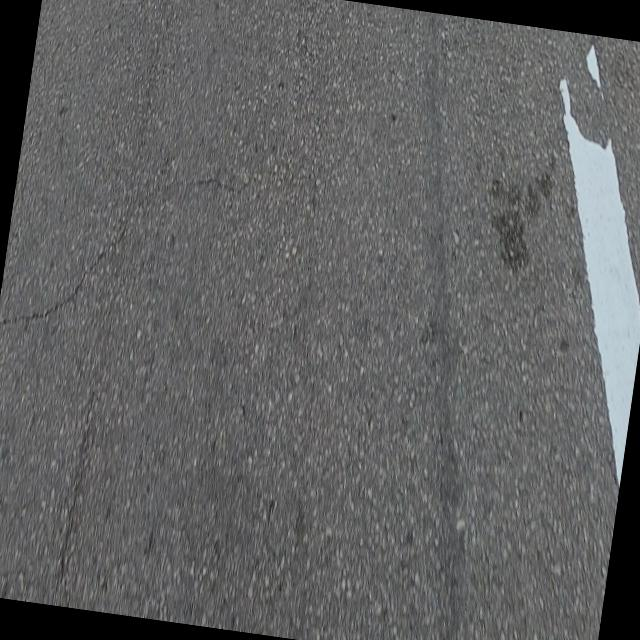Retak-Melintang: (0, 174, 243, 332)
Retak-Memanjang: (58, 394, 93, 582)
